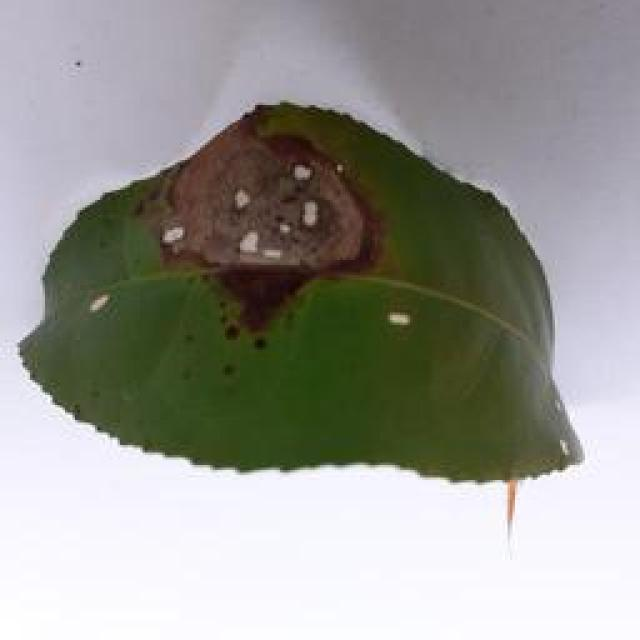Gray Blight: (6, 91, 600, 547)
